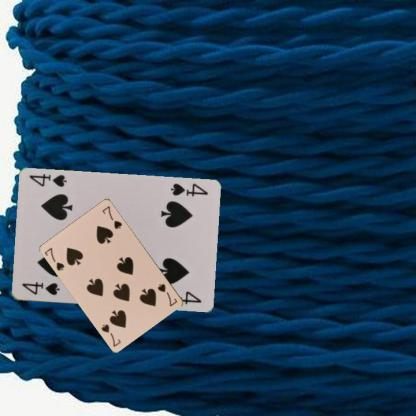4s: (19, 279, 61, 297), (168, 181, 209, 198)
7s: (155, 281, 179, 308), (42, 245, 66, 272)
